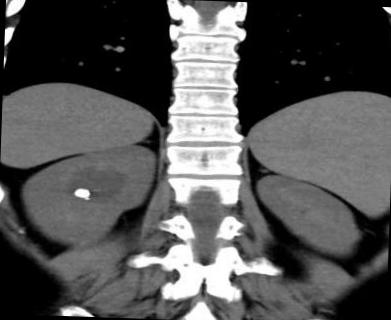Tas_Var: (72, 187, 92, 198), (82, 197, 90, 200)
